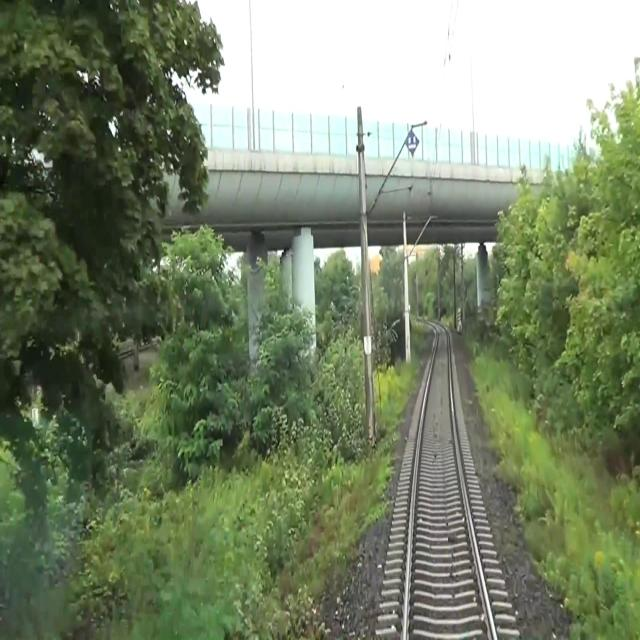rail-track: (407, 325, 492, 639)
